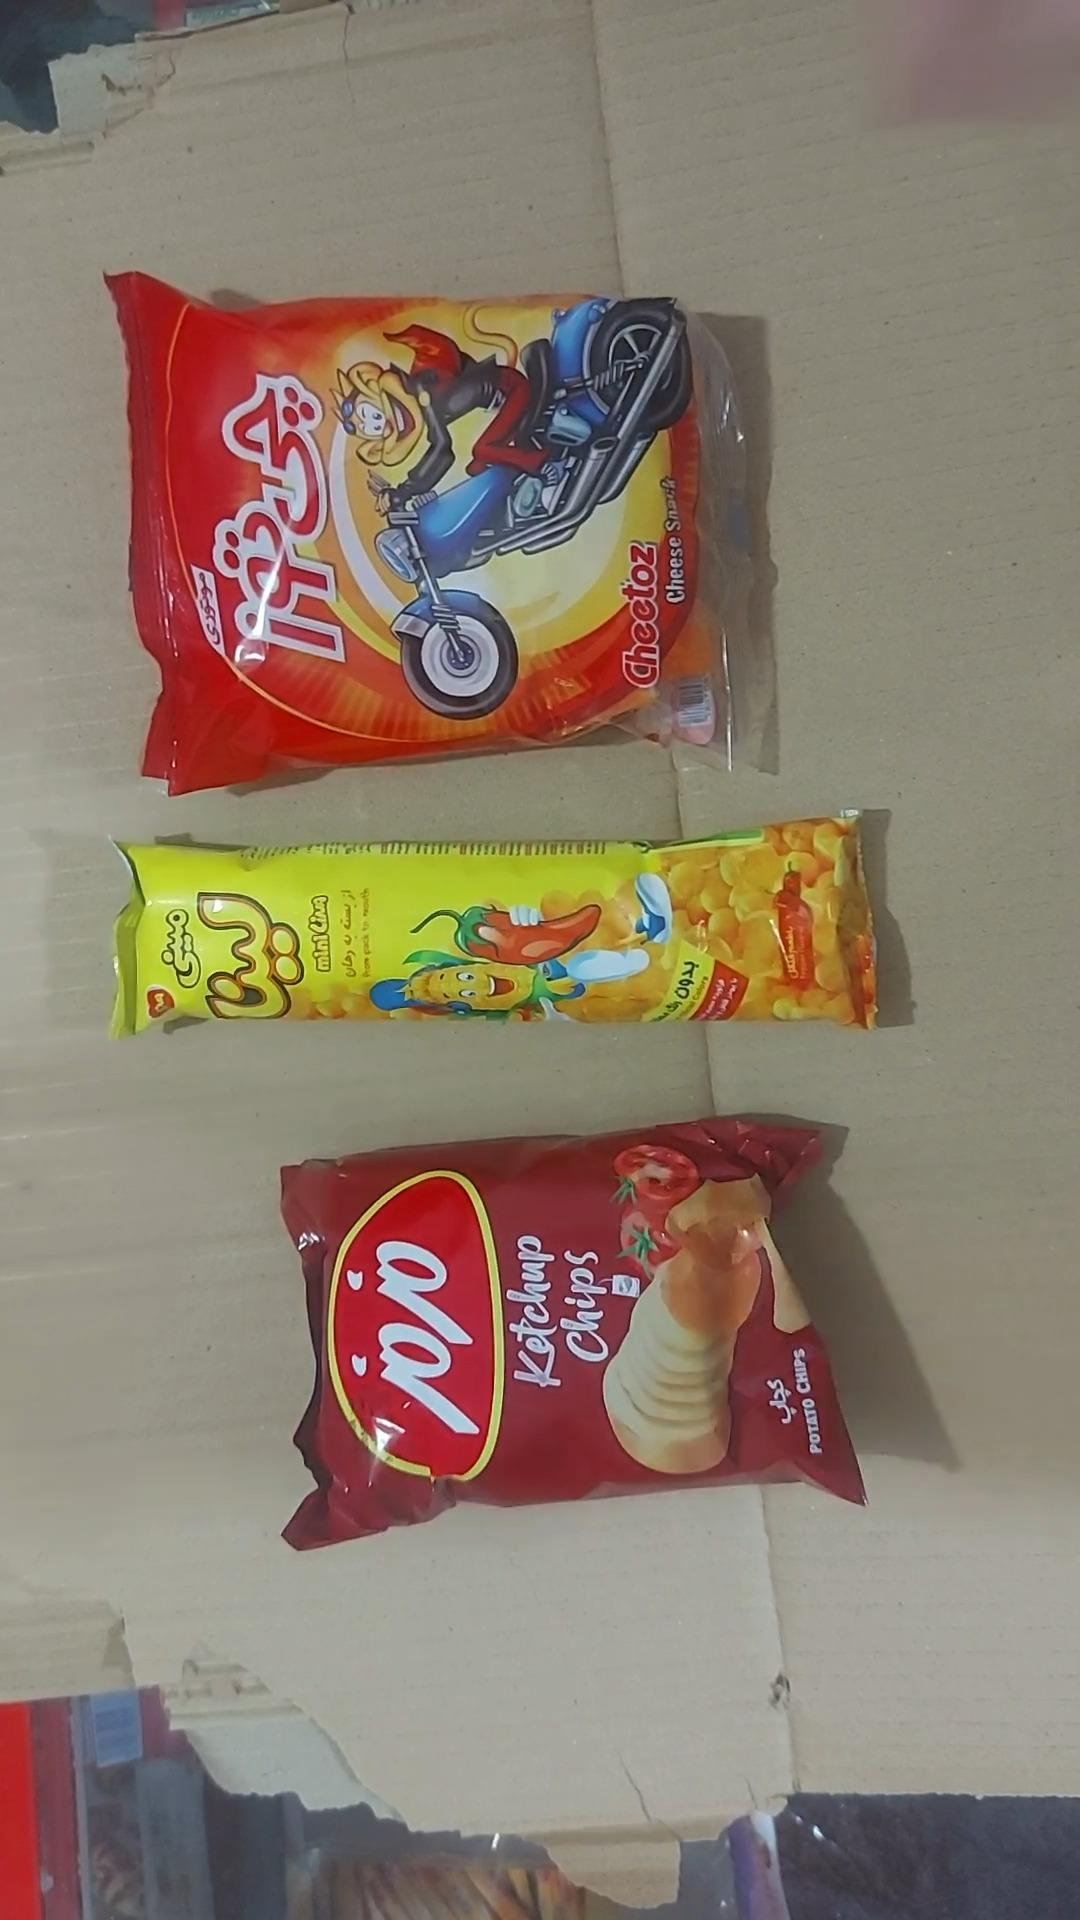Cheetoz snack 30g: (105, 273, 757, 795)
Maz Maz ketchup chips: (281, 1120, 865, 1549)
Mini Lina: (111, 818, 876, 1036)
